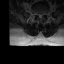CCS_normal: (39, 12, 41, 19)
LFS_normal: (42, 11, 45, 16)
LLS_normal: (41, 12, 42, 18)
RFS_normal: (36, 11, 38, 17)
RLS_normal: (38, 12, 39, 18)
